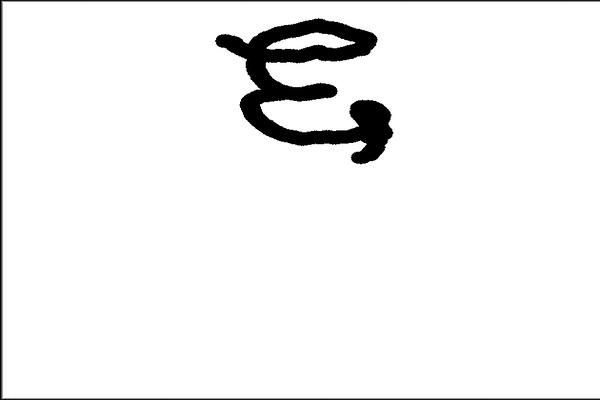E: (213, 13, 397, 168)
